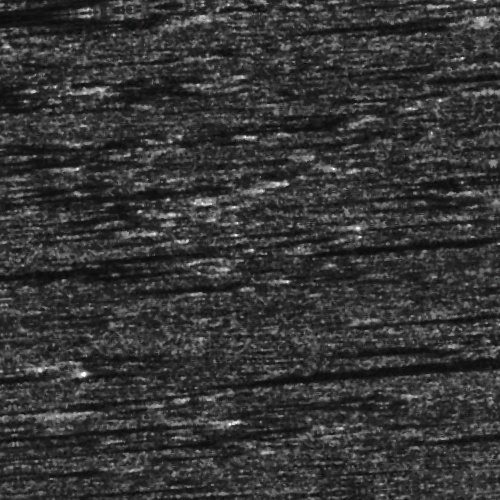object: (36, 67, 129, 80), (2, 338, 33, 359), (349, 122, 402, 131), (24, 356, 87, 363), (144, 254, 227, 259), (19, 148, 92, 153), (468, 30, 499, 41), (230, 181, 293, 186), (436, 203, 499, 208), (213, 446, 266, 451), (475, 329, 500, 338), (8, 393, 49, 396)
shadow: (300, 30, 483, 41), (342, 329, 500, 338), (249, 122, 375, 131), (0, 67, 82, 80), (67, 181, 261, 186), (0, 254, 186, 259), (283, 203, 467, 208), (325, 376, 500, 381), (355, 252, 500, 257), (107, 446, 239, 451), (393, 451, 500, 456), (0, 356, 56, 363), (0, 148, 56, 153)
